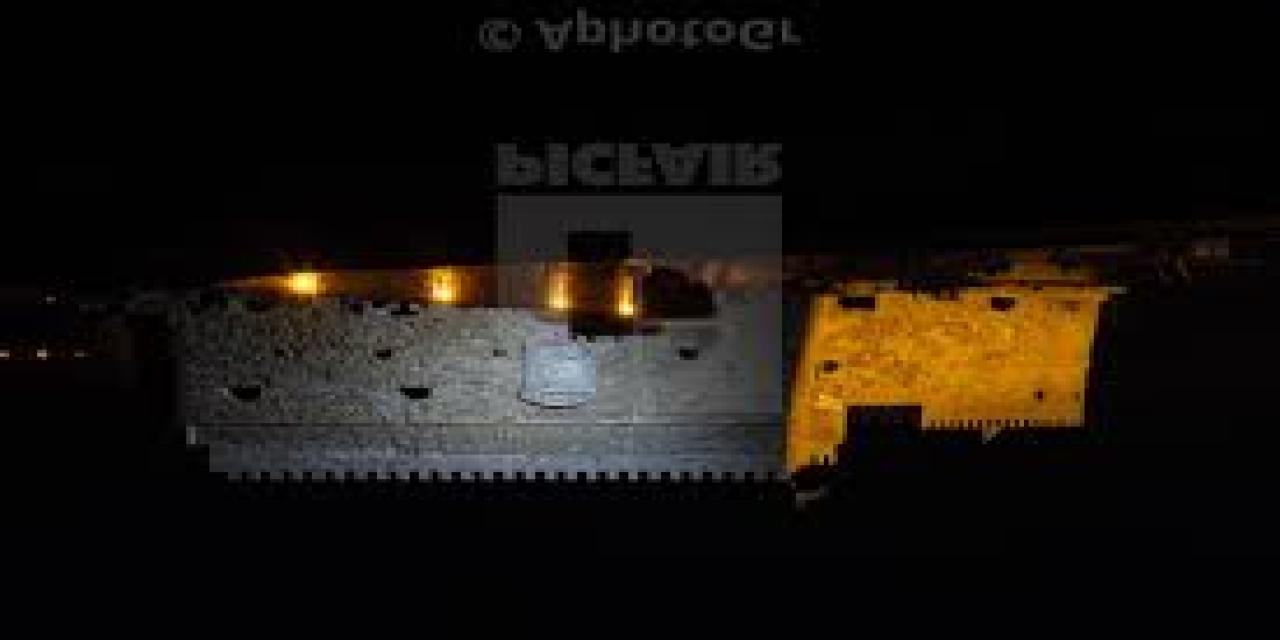Kules: (165, 268, 1132, 507)
